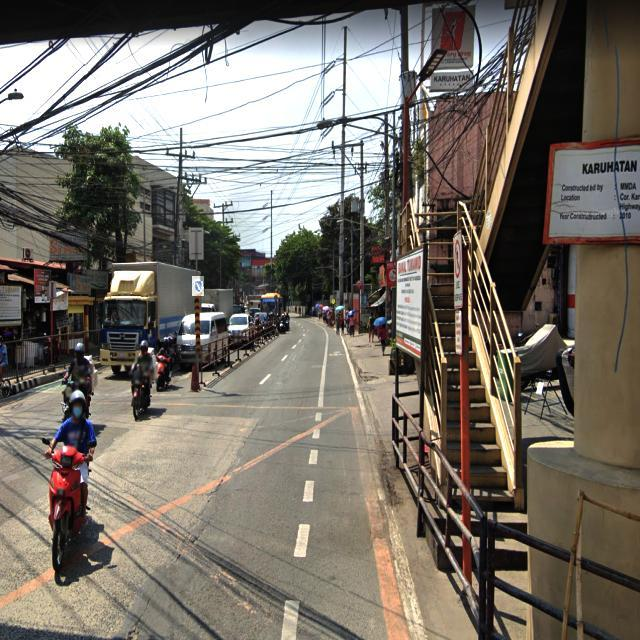keep right: (192, 276, 204, 296)
